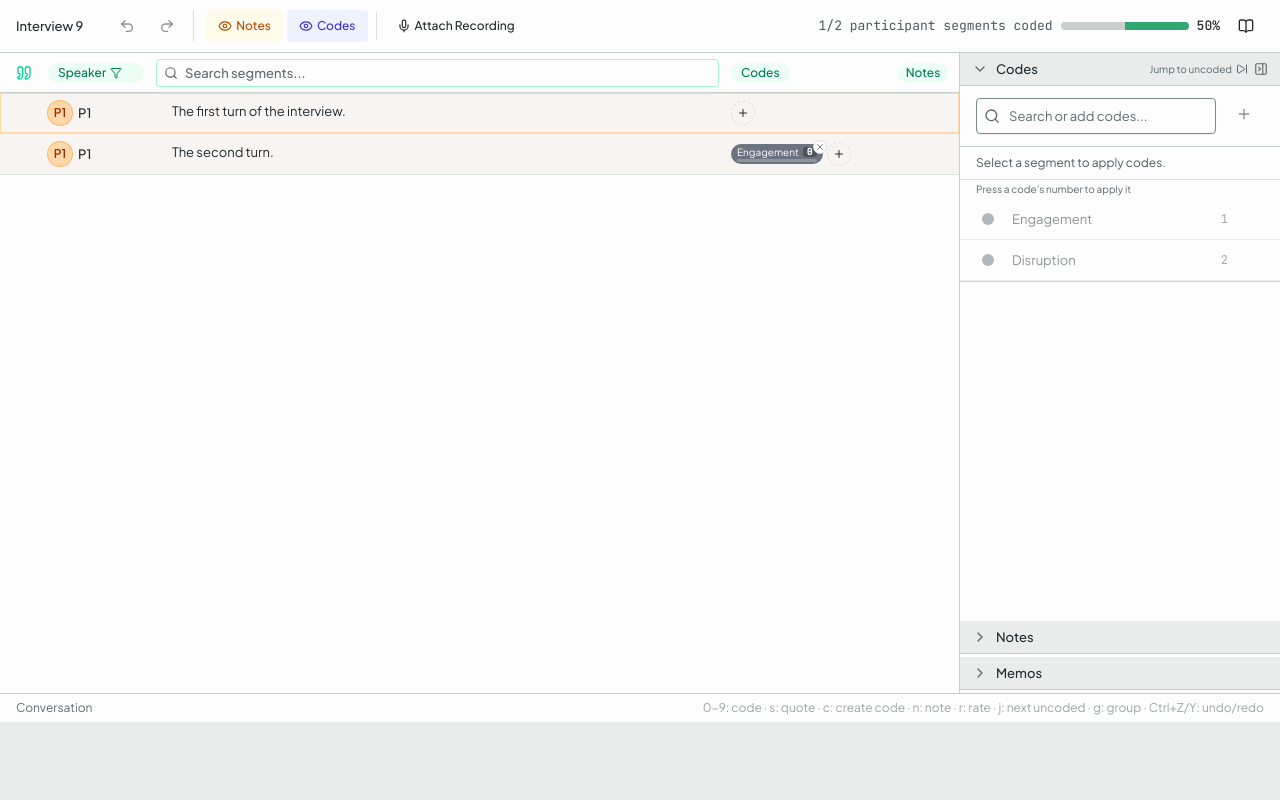
Test: a rating is not painted over by a refetch already in flight (#1059) › a later truth the cancelled refetch would have carried still lands — the refetch after the write
Step 1. Press the mouse on the option "P1 P1 The second turn. Engagement 0" → (223,152), box [0,134,959,174]
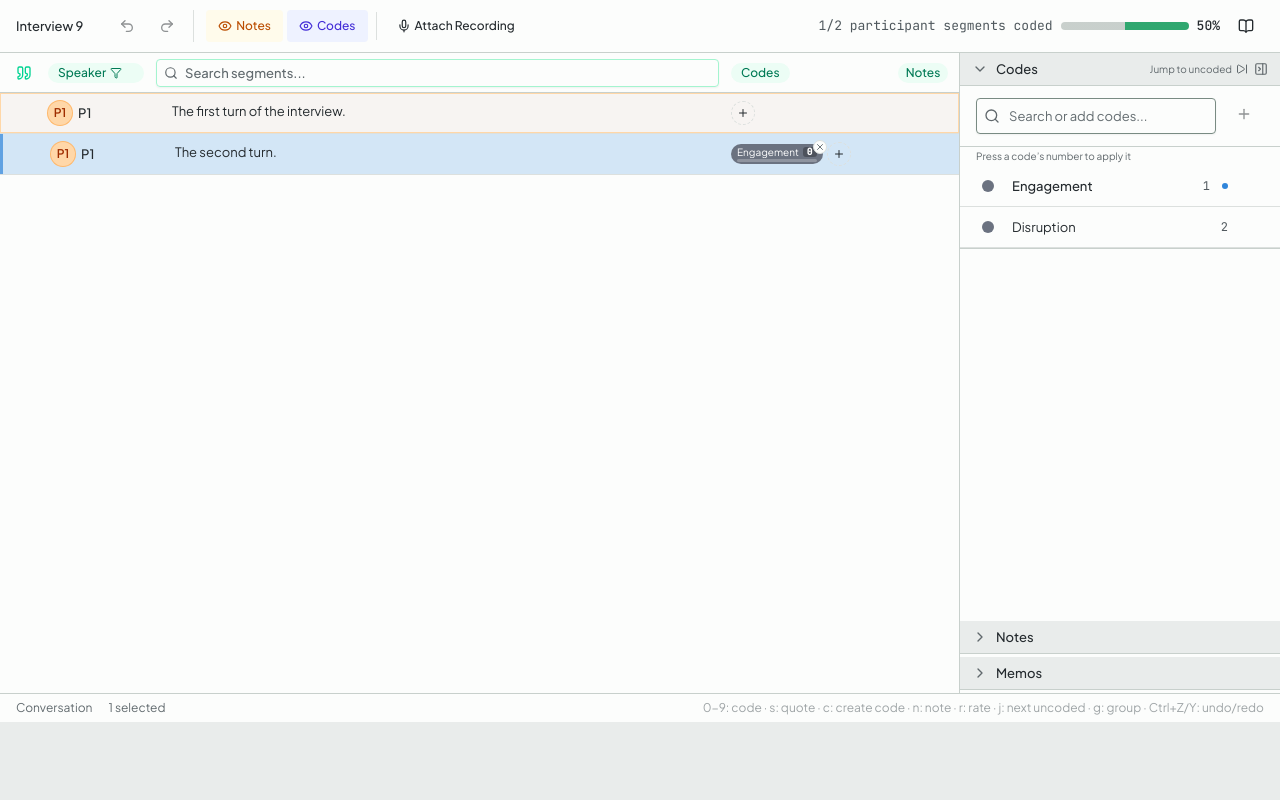
Step 2. Press r
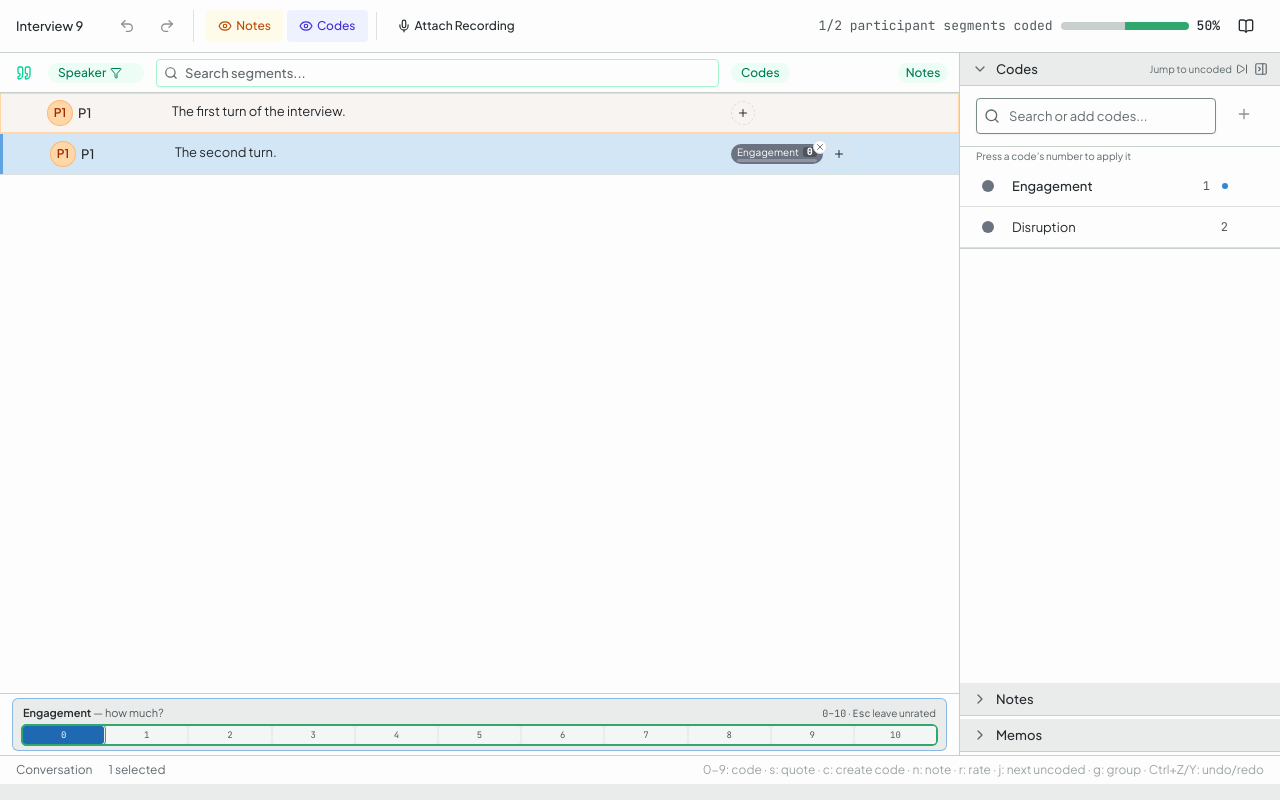
Step 3. Press 5 in the element showing "0 1 2 3 4 5 6 7 8 9 10", box [23,726,936,744]
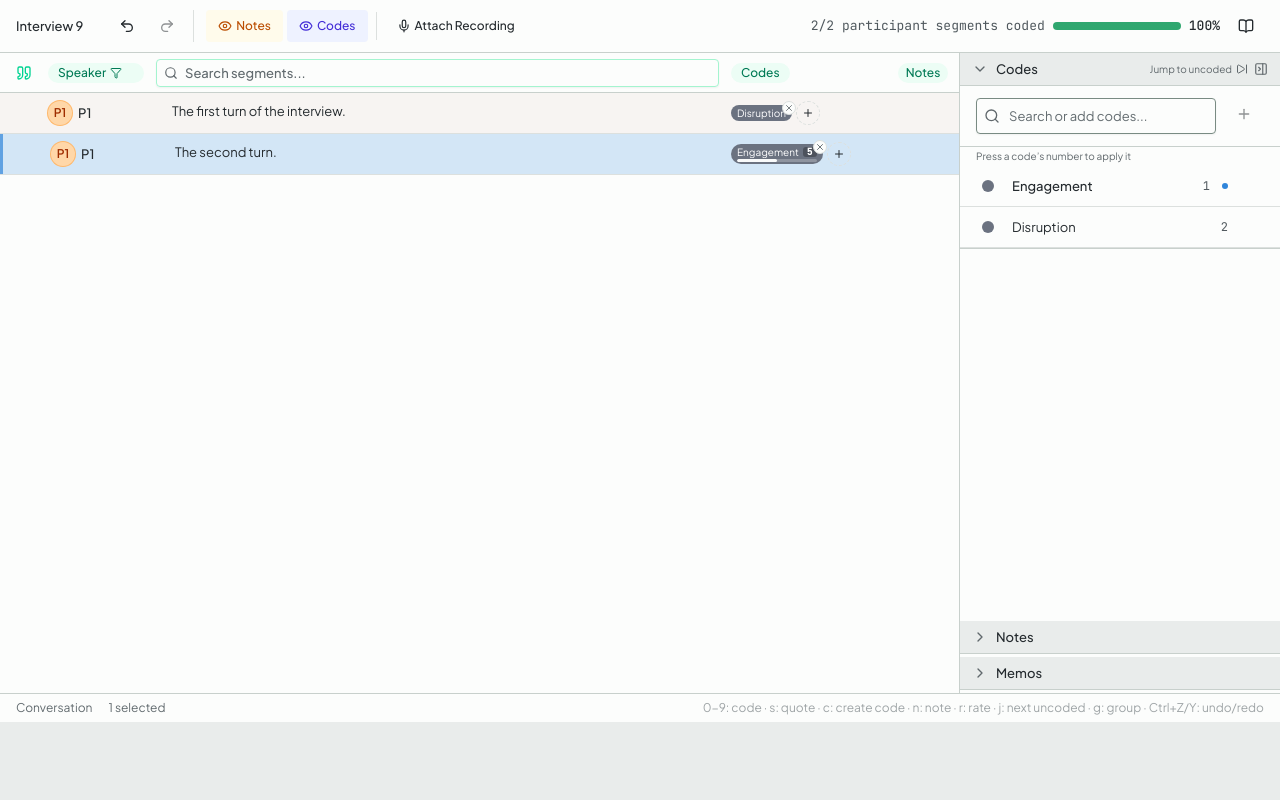
expect the text "Disruption" in the row of "The first turn of the interview." is shown: met, box [737,107,786,119]
